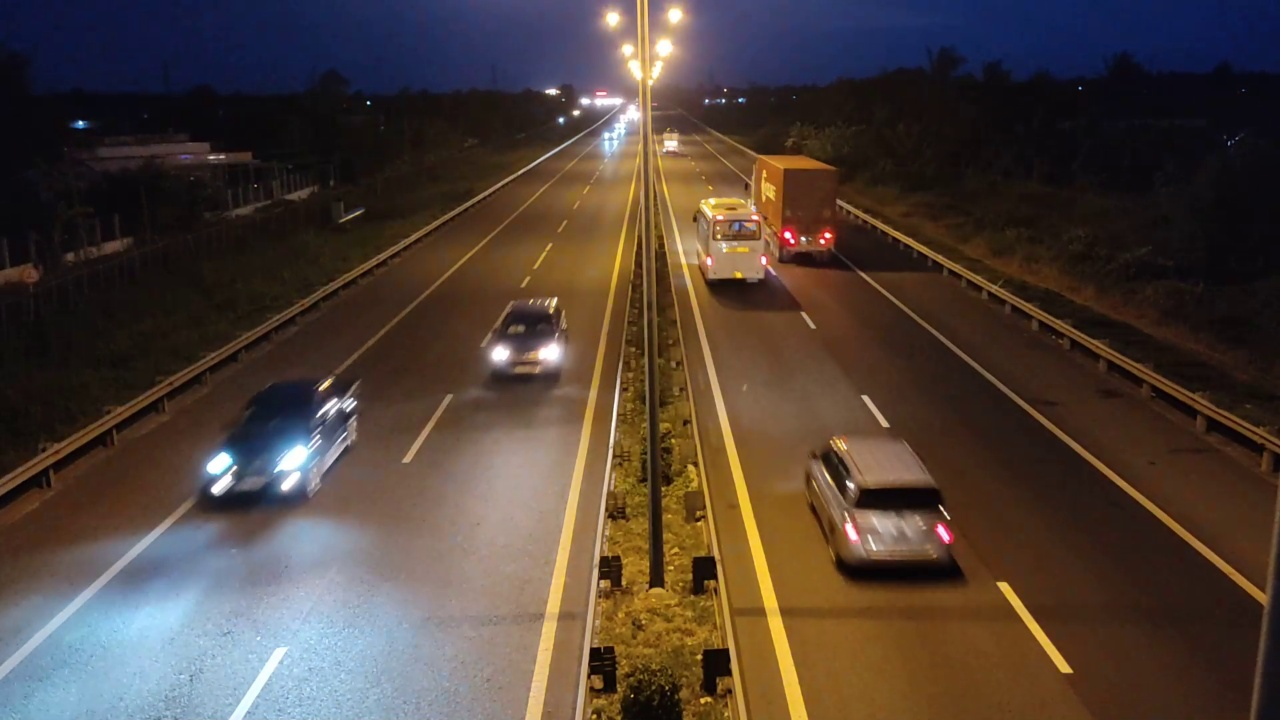bus: (693, 197, 769, 284)
car: (803, 433, 959, 577), (196, 375, 361, 507), (479, 297, 569, 382)
truck: (749, 153, 841, 265)
